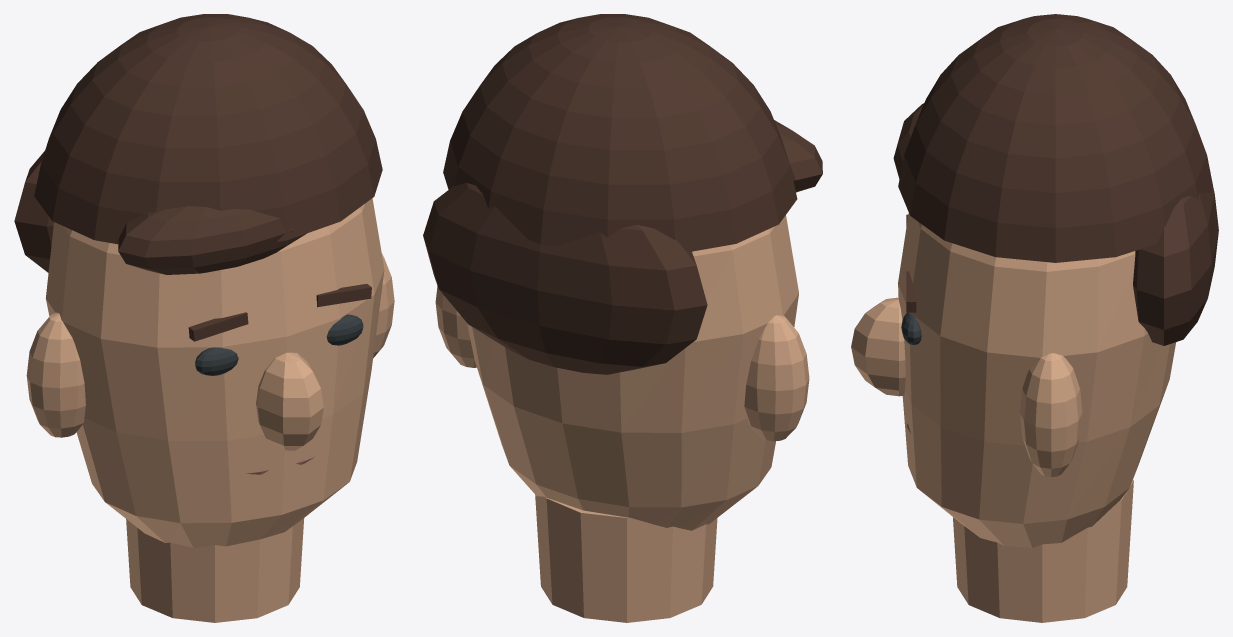
File: male-head.glb
The picture shows the model from 3 angles, left to right: view 1: azimuth 30°, elevation 25°; view 2: azimuth 150°, elevation 25°; view 3: azimuth 270°, elevation 25°; orthographic projection.
Parts seen in each view (by area): view 1: Face and skull, Hair cap, Neck connector, Side swept fringe, Ear (×2), Nose, Short hair back, Eye (×2), Eyebrow (×2); view 2: Hair cap, Face and skull, Short hair back, Neck connector, Ear (×2), Side swept fringe; view 3: Face and skull, Hair cap, Neck connector, Short hair back, Ear, Nose, Side swept fringe, Eye.
Part boxes in pixels (left/top/right/bottom): Face and skull: left=45, top=198, right=384, bottom=547; Hair cap: left=34, top=14, right=382, bottom=244; Neck connector: left=126, top=518, right=304, bottom=622; Side swept fringe: left=118, top=206, right=306, bottom=274; Ear (×2): left=26, top=253, right=394, bottom=437; Nose: left=256, top=352, right=323, bottom=450; Short hair back: left=14, top=151, right=53, bottom=272; Eye (×2): left=195, top=314, right=363, bottom=375; Eyebrow (×2): left=188, top=283, right=371, bottom=341; Hair cap: left=443, top=14, right=797, bottom=252; Face and skull: left=467, top=215, right=798, bottom=530; Short hair back: left=423, top=183, right=707, bottom=374; Neck connector: left=535, top=494, right=717, bottom=622; Ear (×2): left=435, top=286, right=809, bottom=441; Side swept fringe: left=774, top=120, right=822, bottom=192; Face and skull: left=898, top=213, right=1176, bottom=547; Hair cap: left=898, top=14, right=1212, bottom=262; Neck connector: left=953, top=479, right=1133, bottom=622; Short hair back: left=1133, top=187, right=1218, bottom=345; Ear: left=1020, top=353, right=1082, bottom=477; Nose: left=851, top=297, right=905, bottom=396; Side swept fringe: left=893, top=103, right=924, bottom=183; Eye: left=901, top=312, right=921, bottom=344.
Size of the model in its own units: 0.374 by 0.55 by 0.329.
